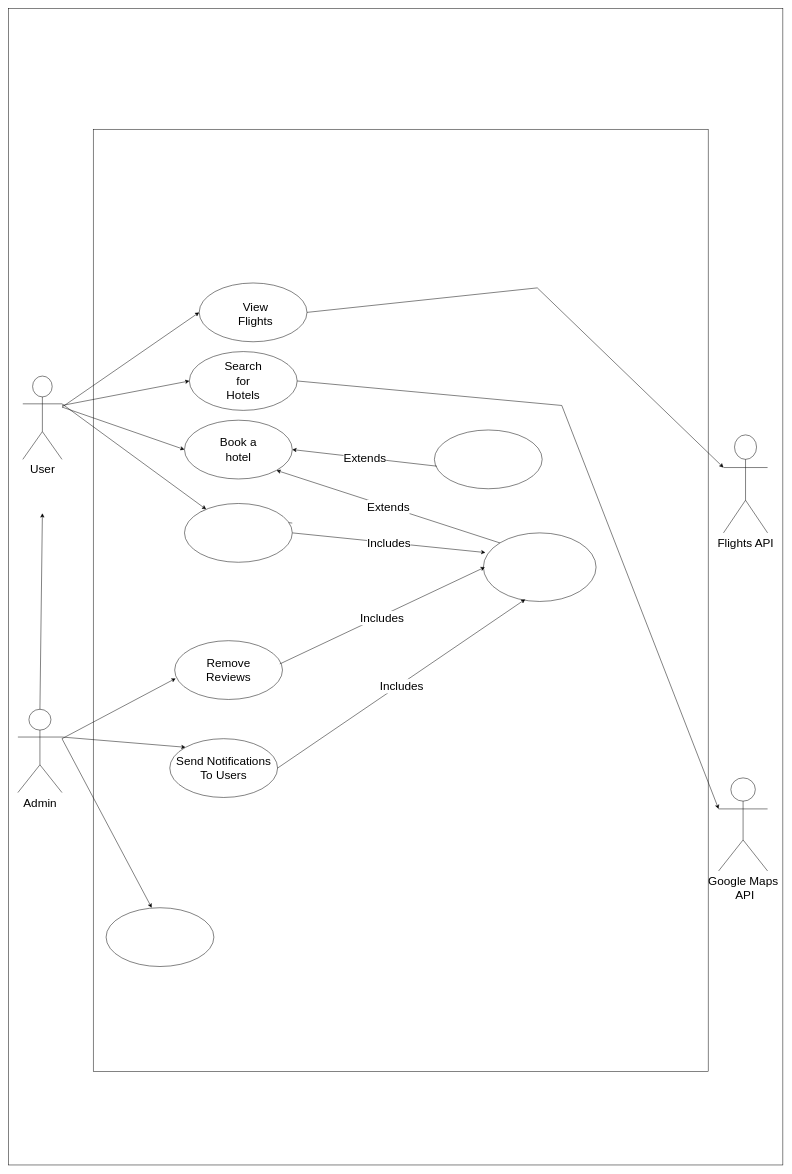
Image size: 792x1174. Some labels were removed from this diagram. Here are the shapes that lost their labels. From the top down, the centre of each, then its label:
the point at 488,459: Request Cancellation
the point at 238,532: Write A Hotel Review
the point at 539,566: Log In
the point at 160,937: Add Search Filter
